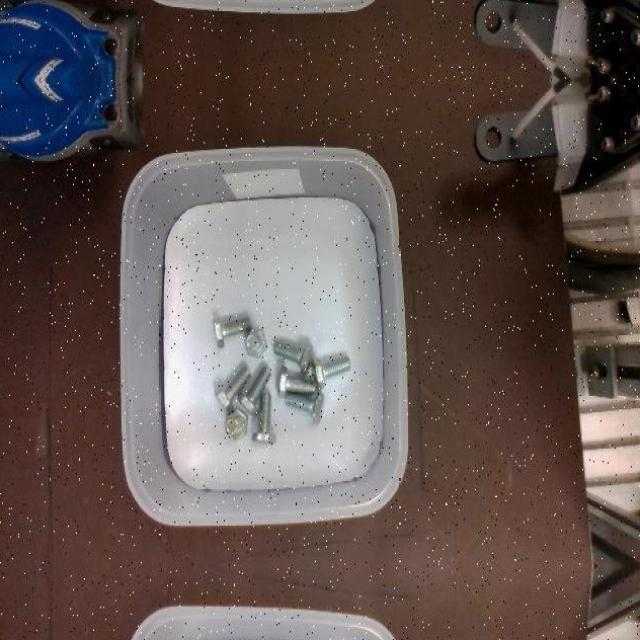screw: (215, 366, 252, 414), (238, 365, 272, 417), (274, 340, 314, 374), (311, 354, 350, 388), (286, 391, 325, 425), (251, 392, 277, 443), (214, 316, 252, 350), (277, 366, 315, 398), (225, 406, 248, 440), (244, 328, 268, 358)
